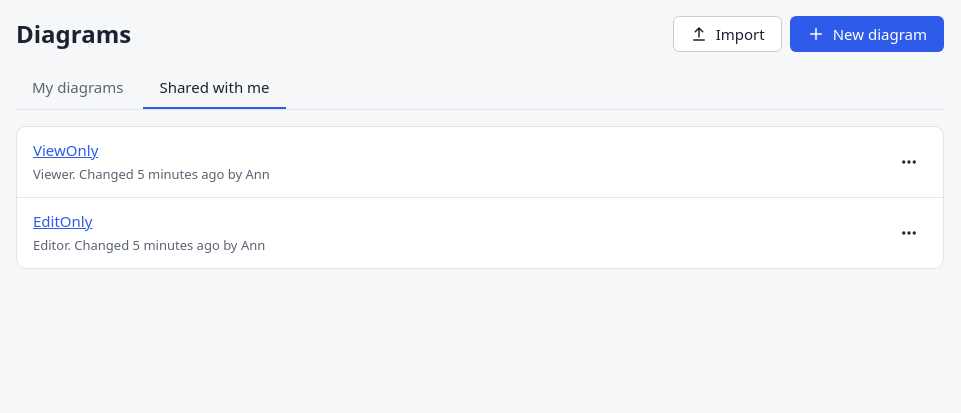
DiagramListPage › shows only the actions that the role permits
Click the button named "Actions for ViewOnly".
click(909, 162)  # box [891,144,927,180]
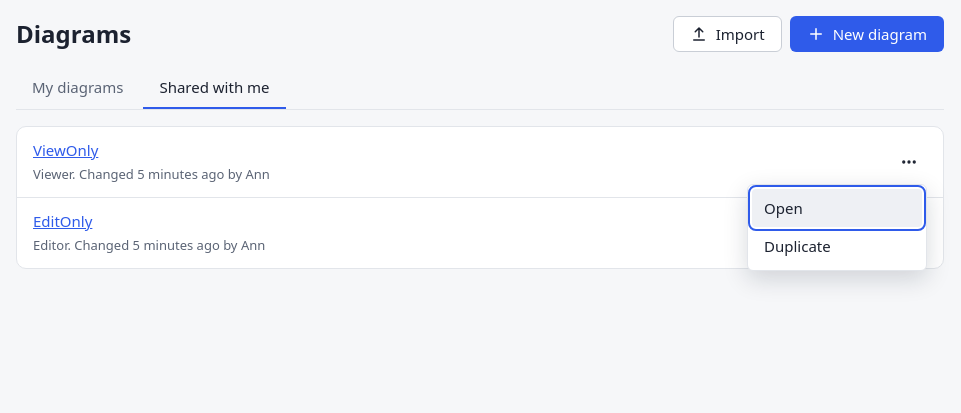
Expected: the menu item "Rename" is not shown
Expected: the menu item "Open" is shown, [752,188,922,227]
Expected: the menu item "Duplicate" is shown, [752,227,922,266]
Press Escape
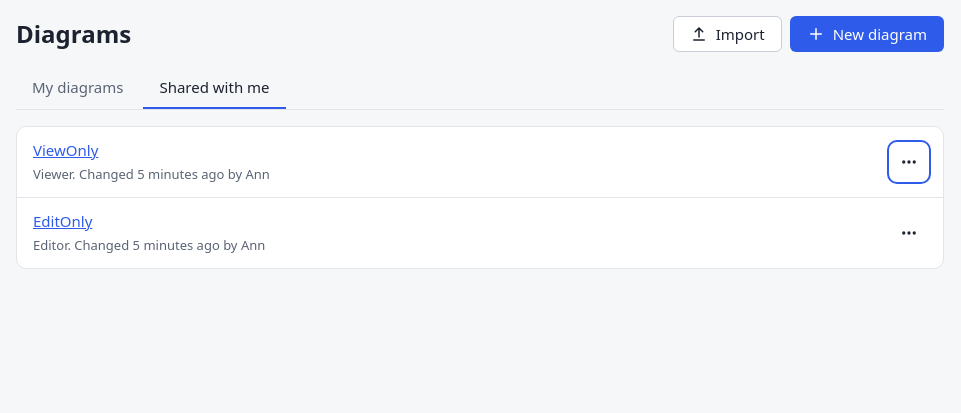
Click the button named "Actions for EditOnly".
click(909, 232)  # box [891,214,927,250]
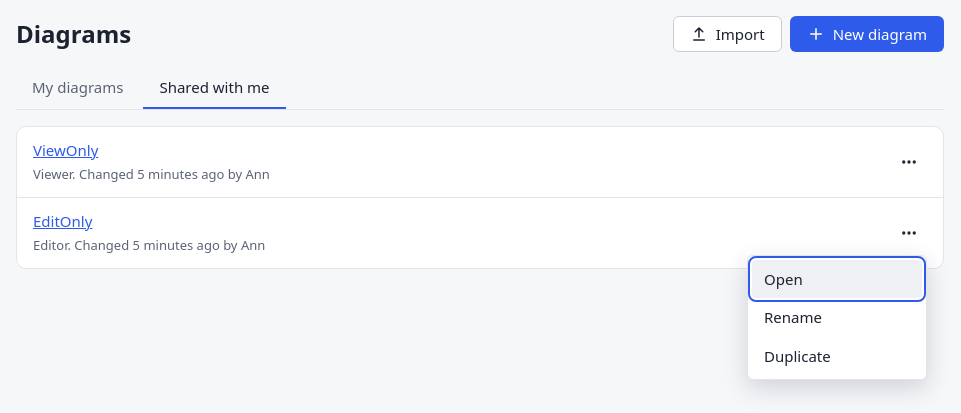
Expected: the menu item "Rename" is shown, [752,298,922,336]
